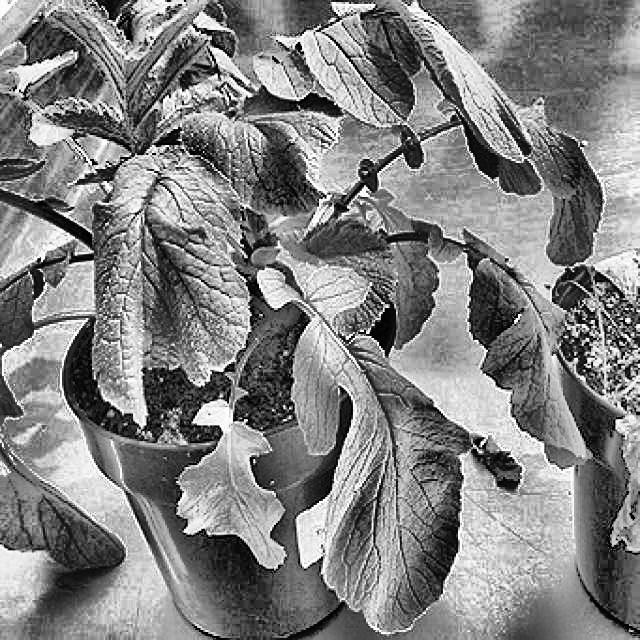plants: (1, 0, 576, 638), (574, 246, 639, 608), (462, 421, 532, 497)
